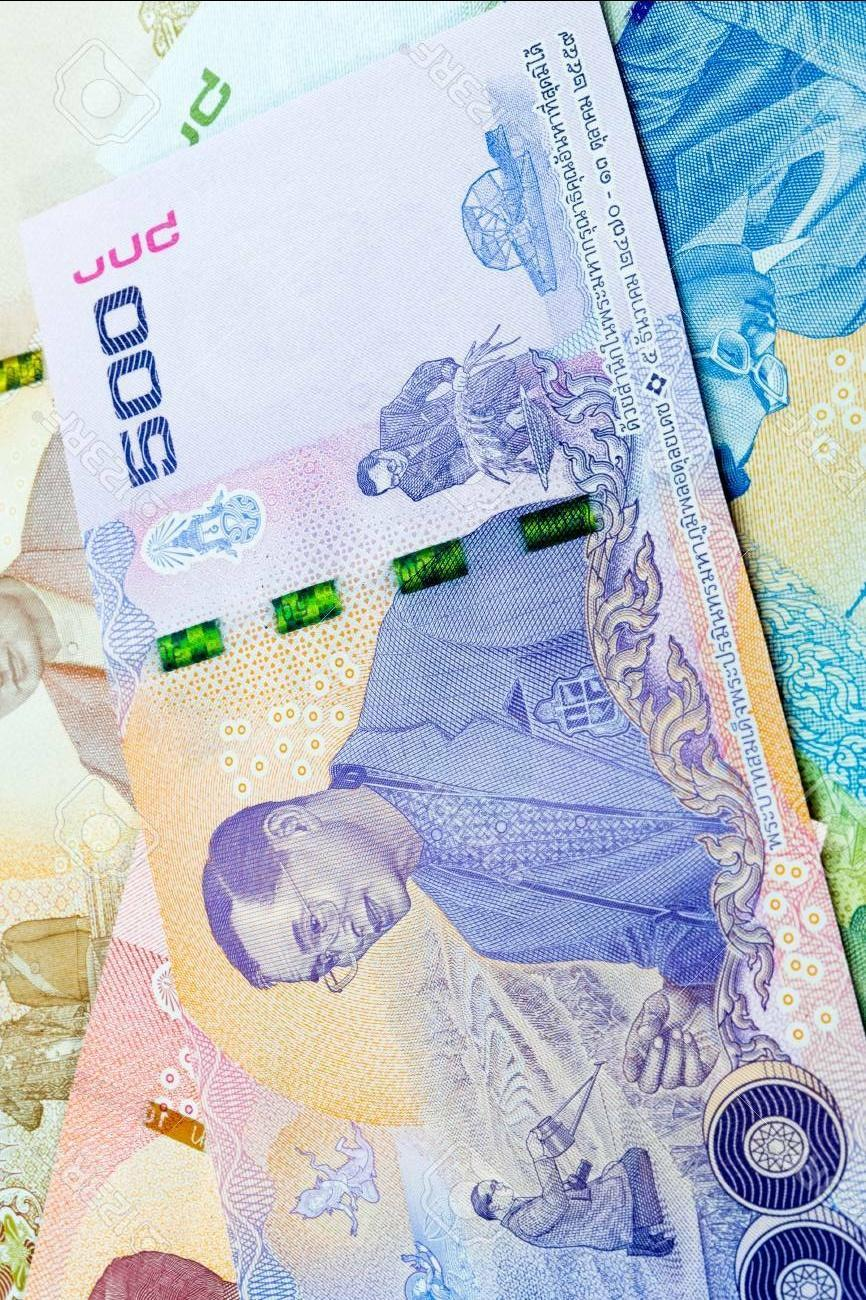500BahtTai: (82, 67, 836, 1300)
